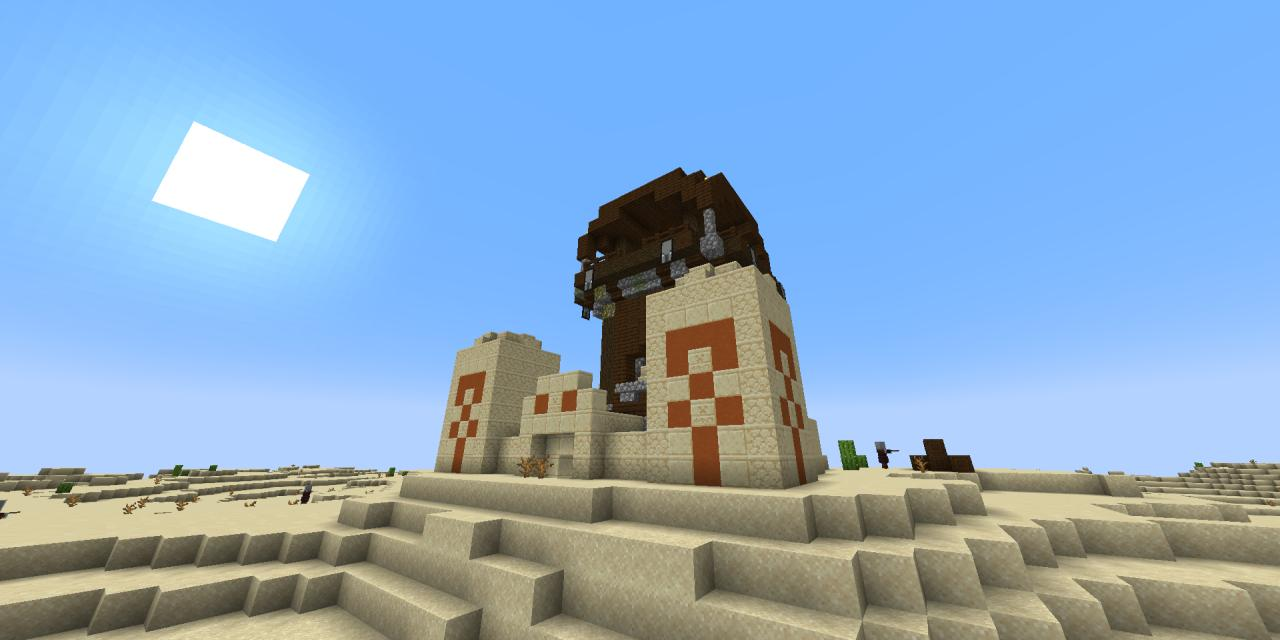desert temple: (422, 252, 820, 503)
pillager outpost: (564, 166, 786, 418)
